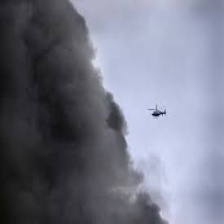smoke: (1, 1, 171, 222)
